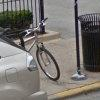Bicycle: (5, 16, 64, 81)
